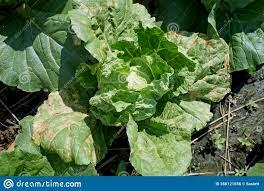Bok-Choy-Diseased: (24, 78, 115, 163), (170, 29, 233, 104)
